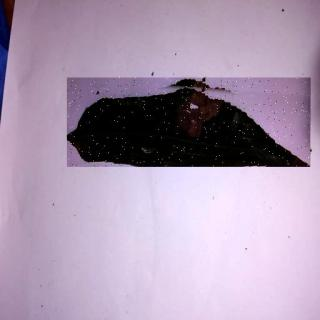Anthracnose: (68, 78, 313, 168)
